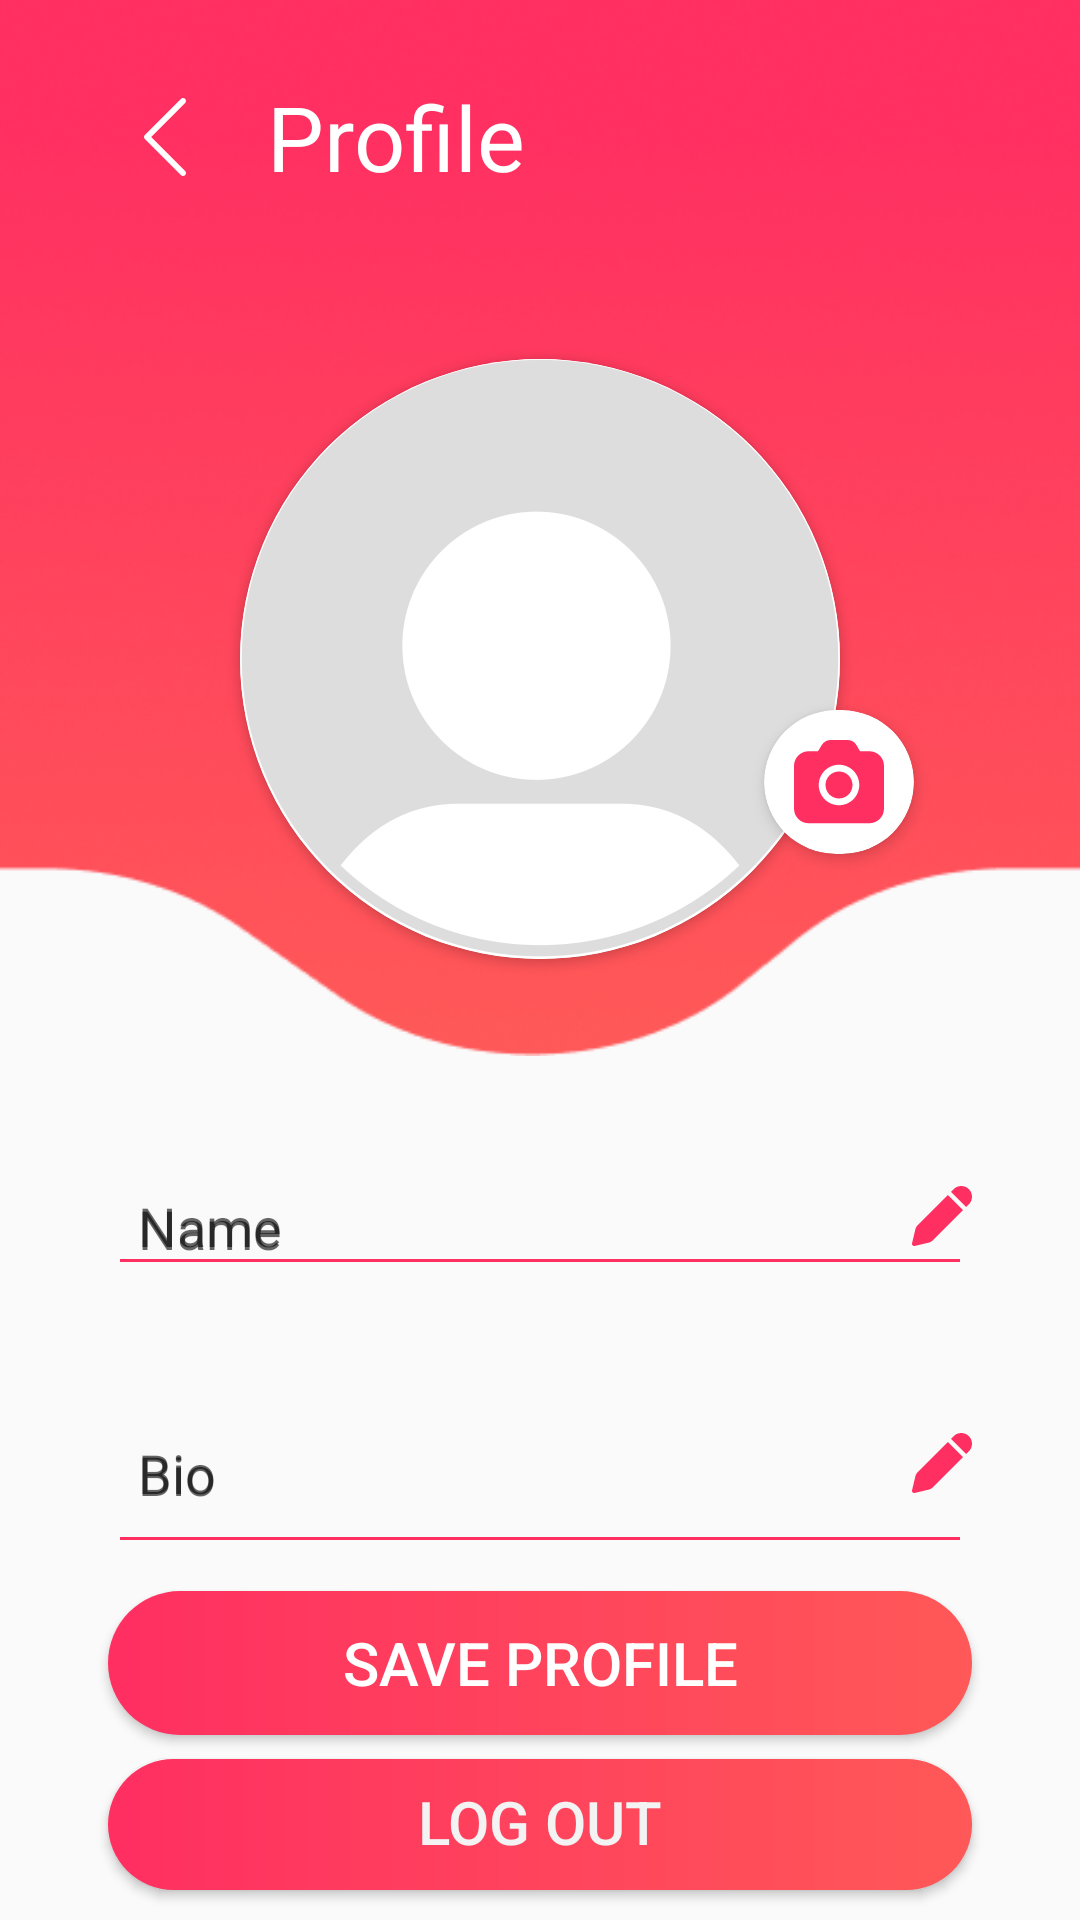

Icons on this 1080*1920 Android screen, each with its box as (x1, y1, x2, y2):
back: (144, 98, 186, 176)
edit: (912, 1433, 972, 1493)
